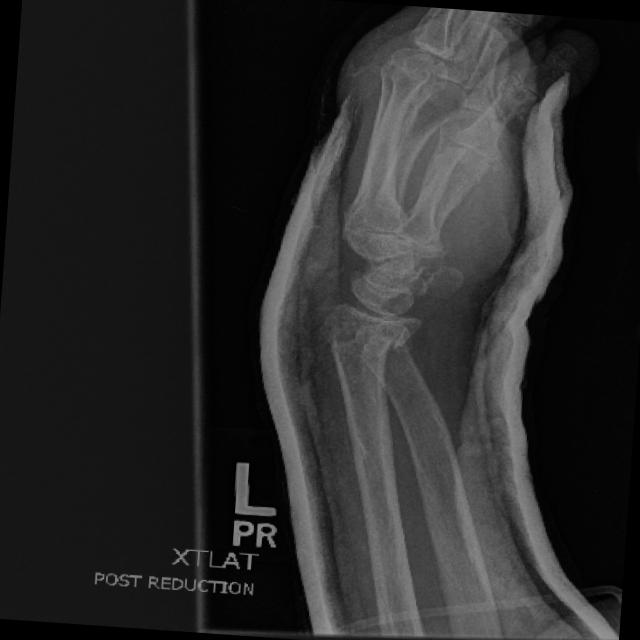wrist positive: (312, 308, 436, 365)
